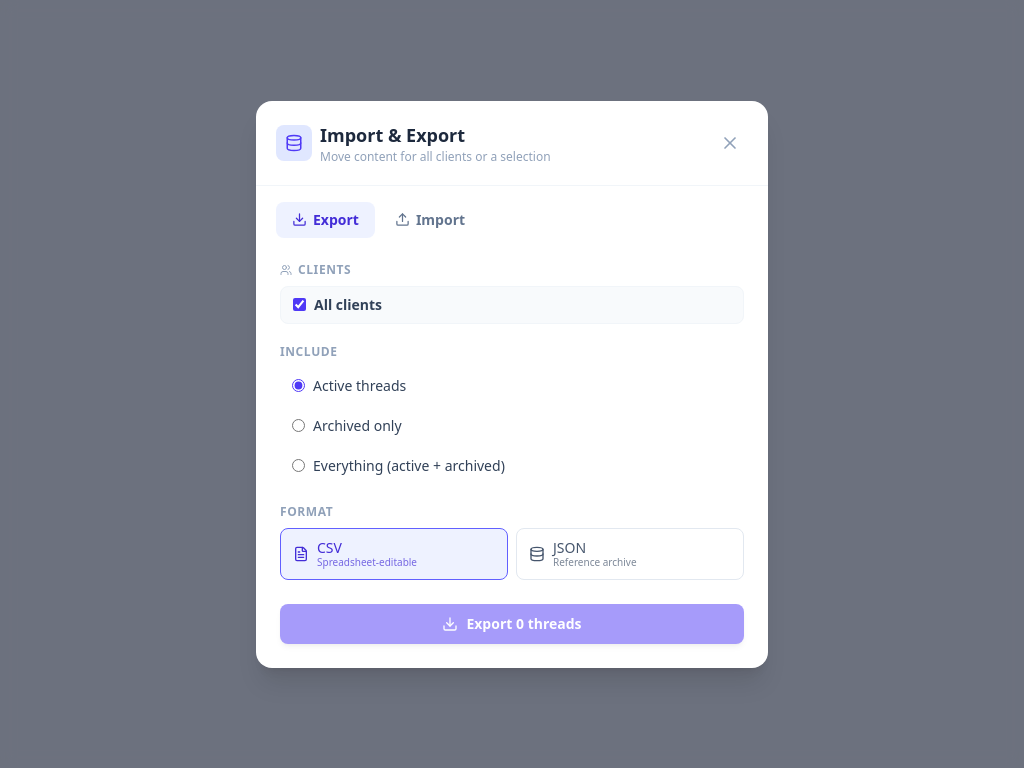
it: ImportExportModal — import › keeps uncertainty visible and blocks importing during the page-memory hold
Click the tab "Import" at (430, 220), box [379,202,481,238]
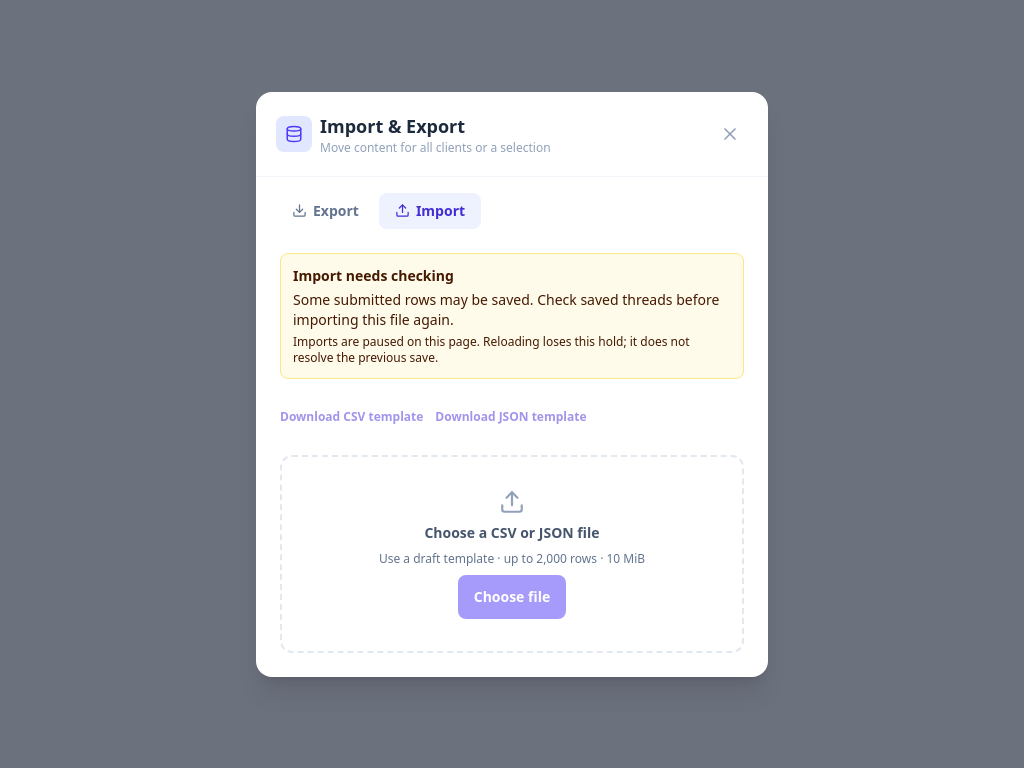
Now the text "Import needs checking" is shown, box [293,266,454,284]
Now the text "Reloading loses this hold" is shown, box [293,332,690,366]
Now the element that starts with "Choose a CSV or JSON file" is disabled, box [280,454,744,652]
